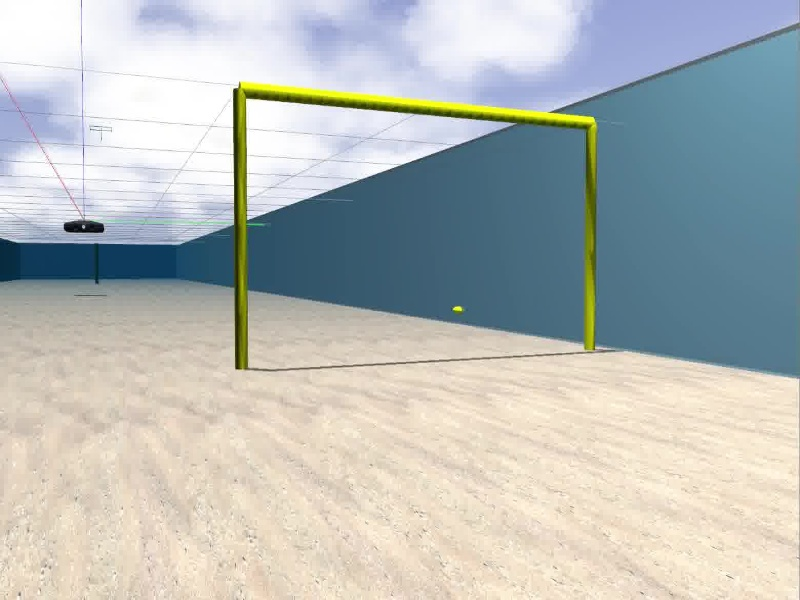gate: (232, 80, 598, 370)
